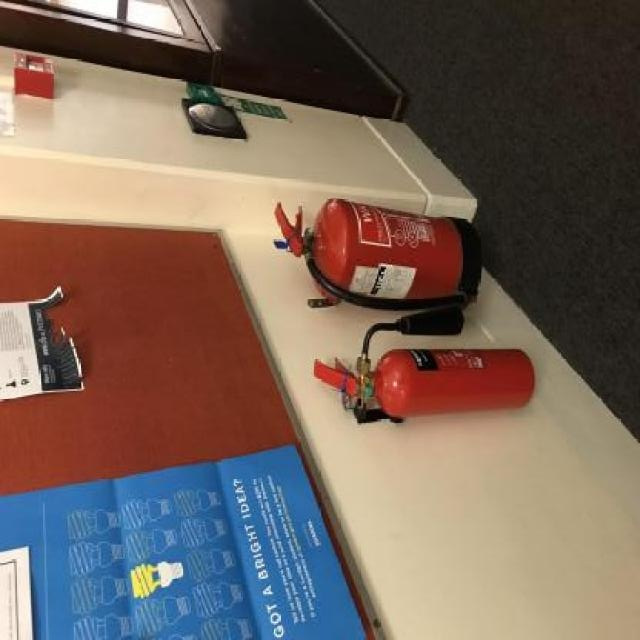fire extinguisher: (314, 304, 535, 419), (273, 196, 484, 310)
